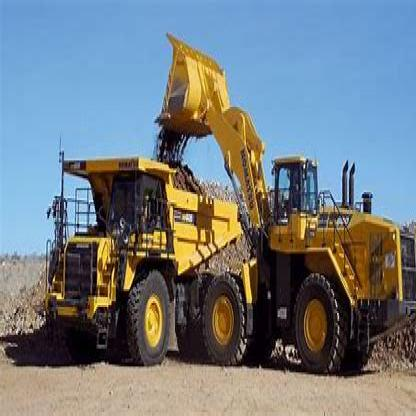bull_dozer/loader/grader: (162, 34, 404, 376)
dump_truck: (45, 143, 236, 356)
